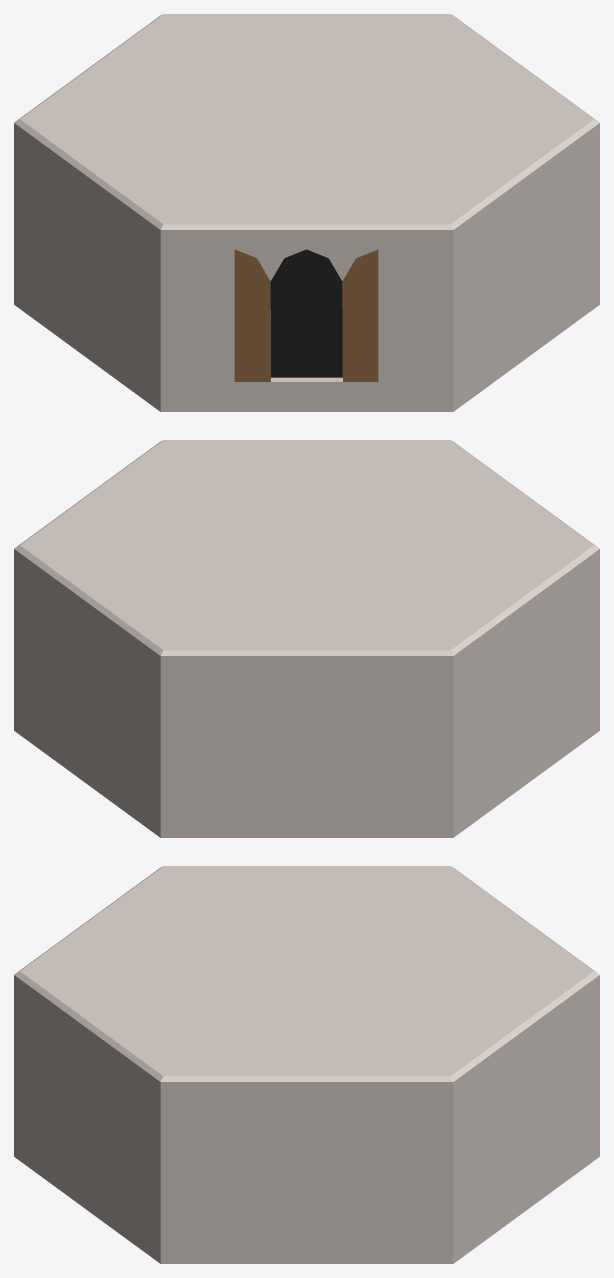
The model's file is RPG_Tiles_Hex_Building_Window_Raised_03.FBX.
3 views of the same model, one above another, from view 1: azimuth 30°, elevation 25°; view 2: azimuth 150°, elevation 25°; view 3: azimuth 270°, elevation 25° (orthographic).
Visible parts, largest first — view 1: RPG_Tiles_Hex_Building_Window_Raised_03; view 2: RPG_Tiles_Hex_Building_Window_Raised_03; view 3: RPG_Tiles_Hex_Building_Window_Raised_03.
Part boxes in pixels (<box>): RPG_Tiles_Hex_Building_Window_Raised_03: <box>14,14,599,411</box>; RPG_Tiles_Hex_Building_Window_Raised_03: <box>14,440,599,837</box>; RPG_Tiles_Hex_Building_Window_Raised_03: <box>14,866,599,1263</box>.
Bounding box in the file's own units: 3000 × 1210 × 3464.
